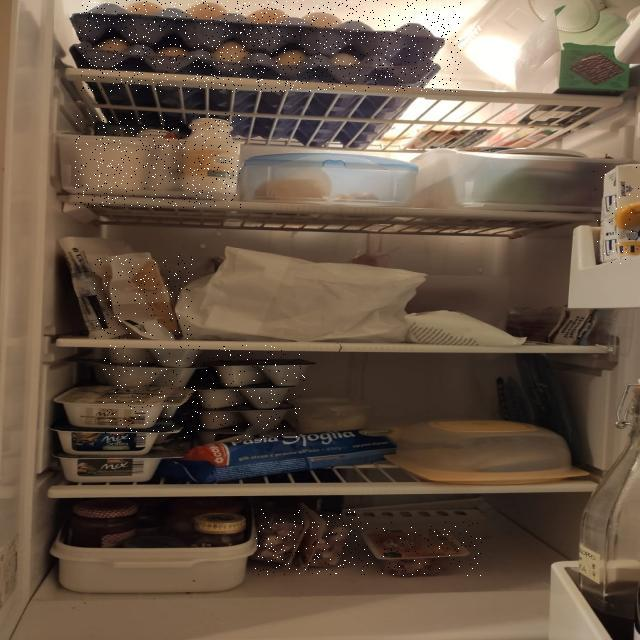bacon: (254, 510, 360, 576), (356, 522, 483, 576)
butter: (593, 160, 640, 269)
cheese: (94, 255, 193, 339)
eggs: (79, 0, 461, 92)
yoghurt: (103, 345, 305, 440), (75, 113, 241, 208), (53, 393, 186, 483)
